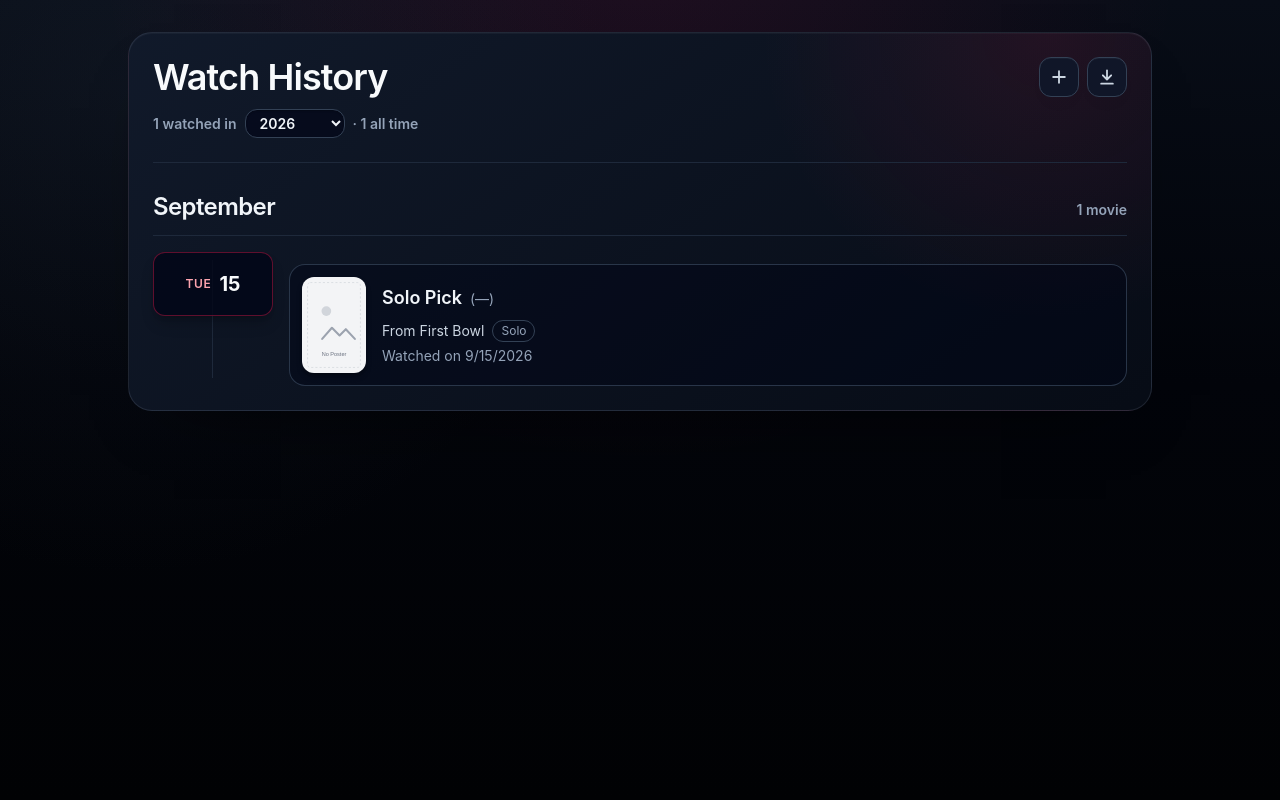
Test case: WatchListPage solo undo › asks only about the entry when the draw removed nothing
The width and height of the screenshot is (1280, 800).
Expected: the heading "Solo Pick" is shown, [382, 284, 462, 312]
Click the button "Solo Pick (—) From First Bowl Solo Watched on 9/15/2026" at (334, 325), box [289, 264, 1127, 386]
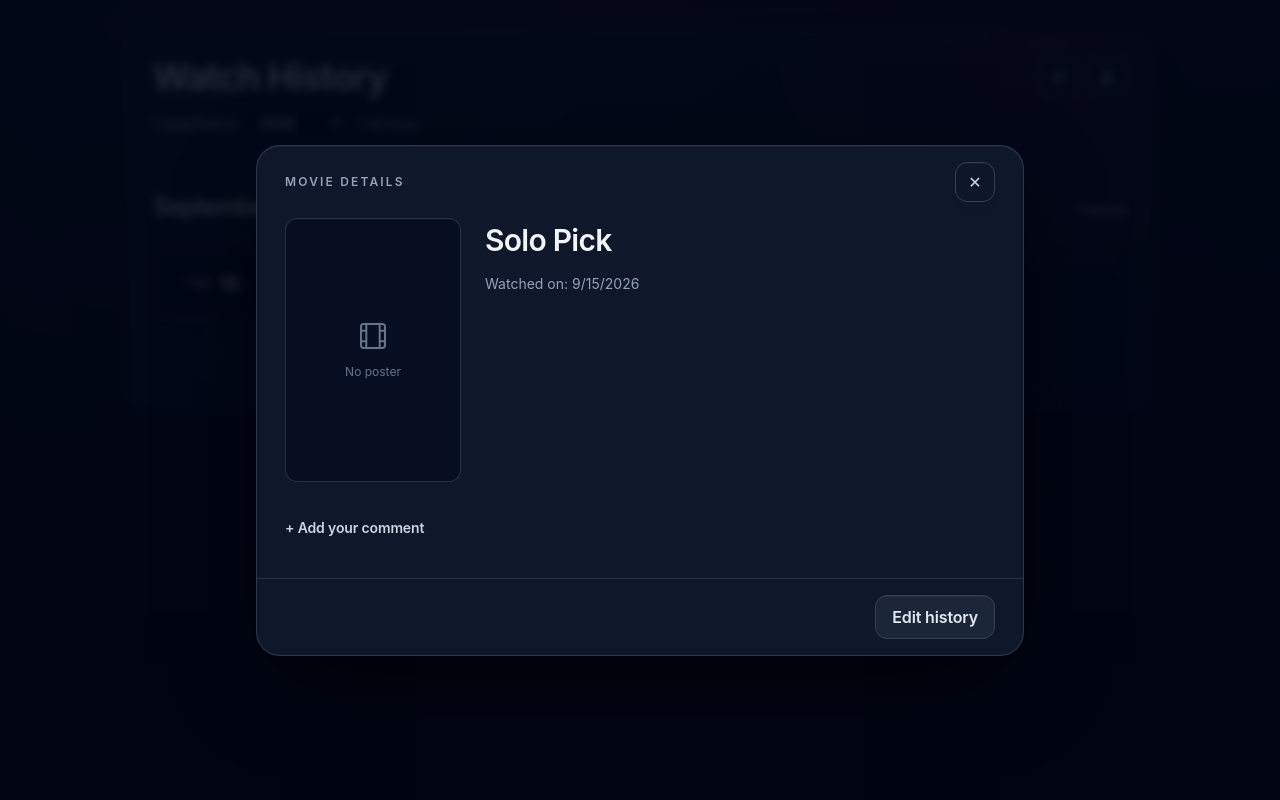
Click the button "Edit history" at (935, 616), box [875, 594, 995, 638]
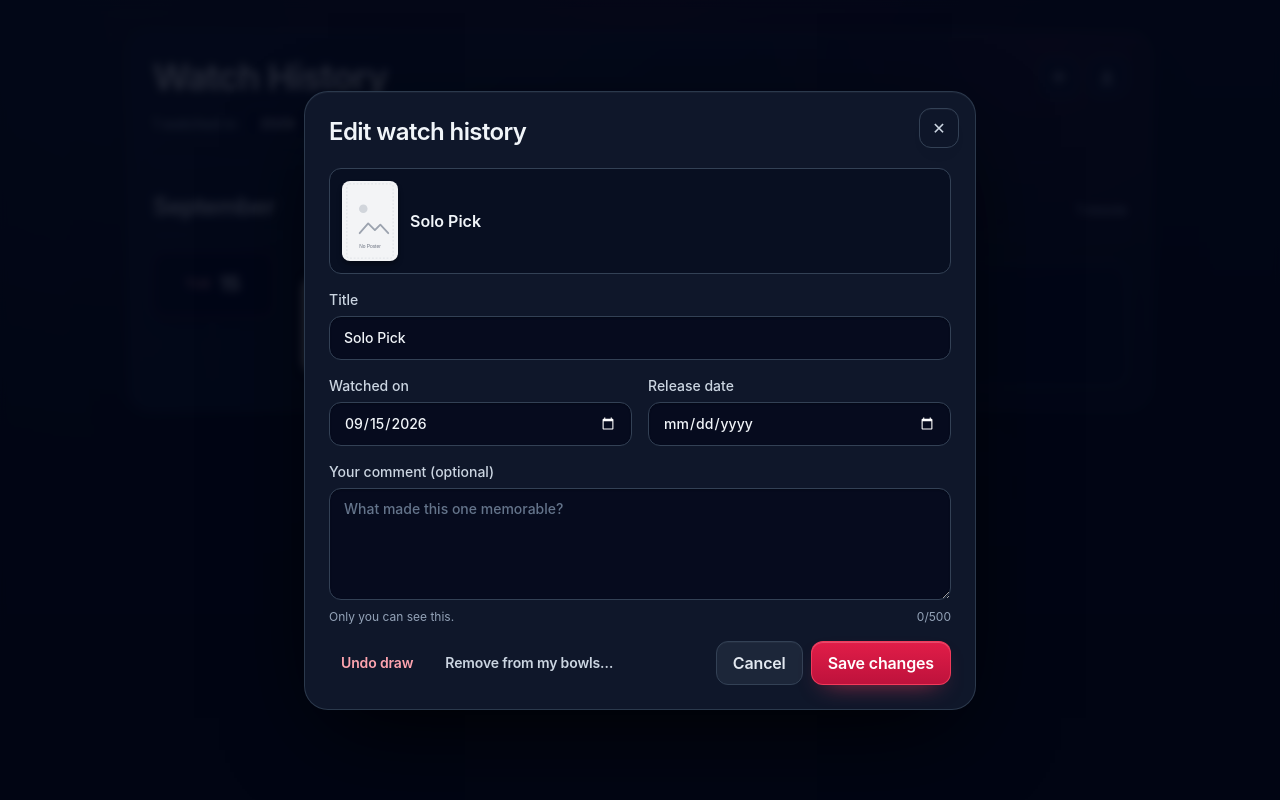
Click the button "Undo draw" at (377, 662), box [329, 640, 425, 684]
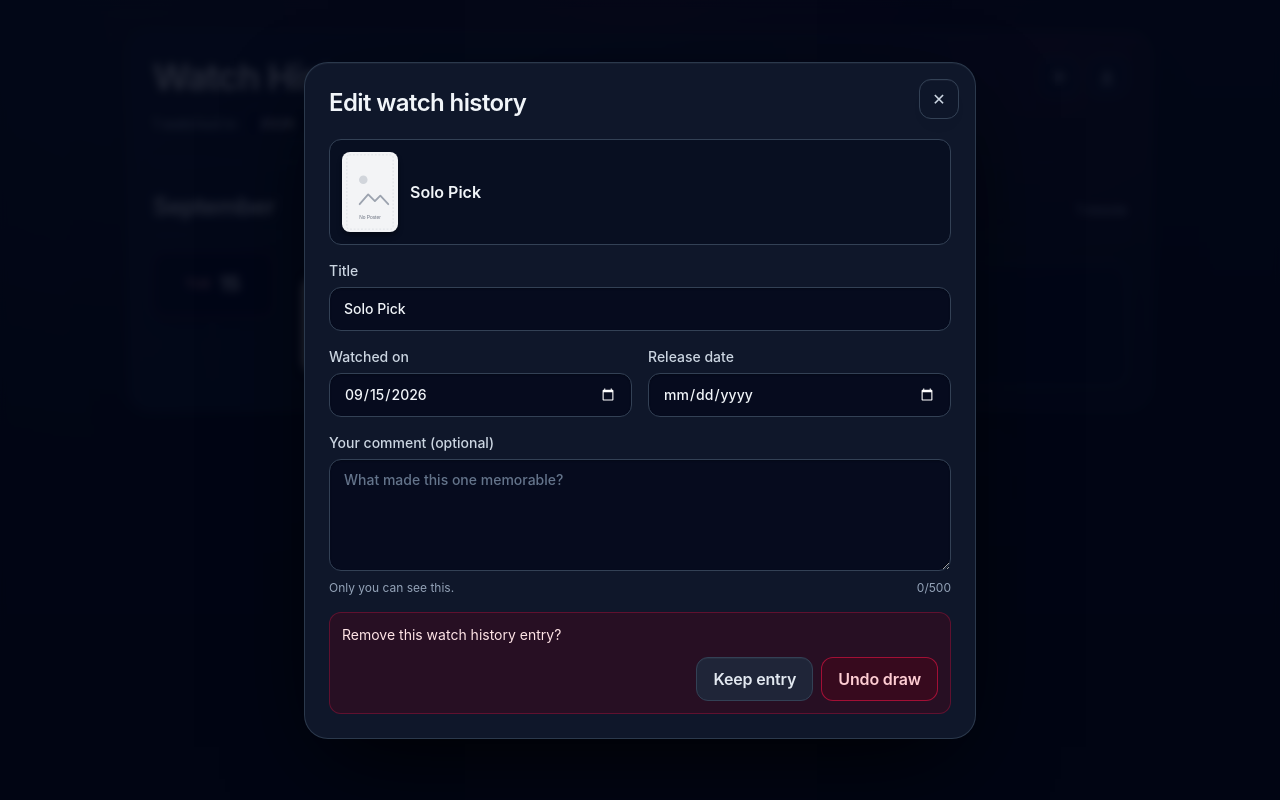
Expected: the text "Remove this watch history entry?" is shown, [342, 626, 561, 642]
